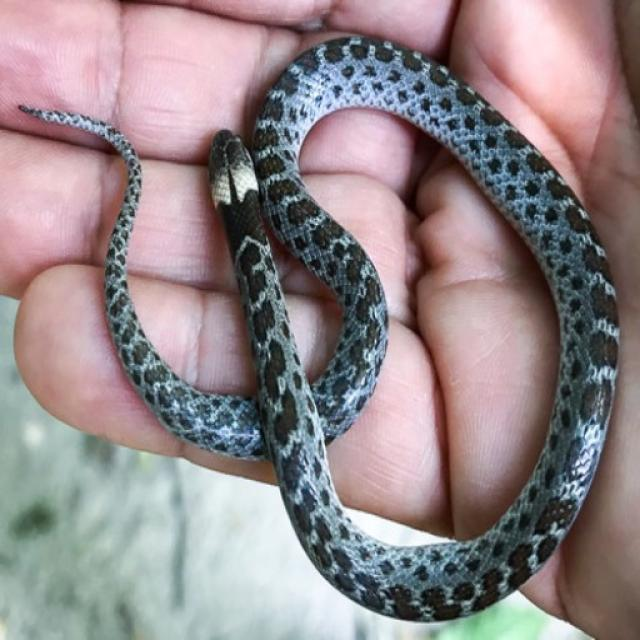snake: (22, 35, 640, 619)
